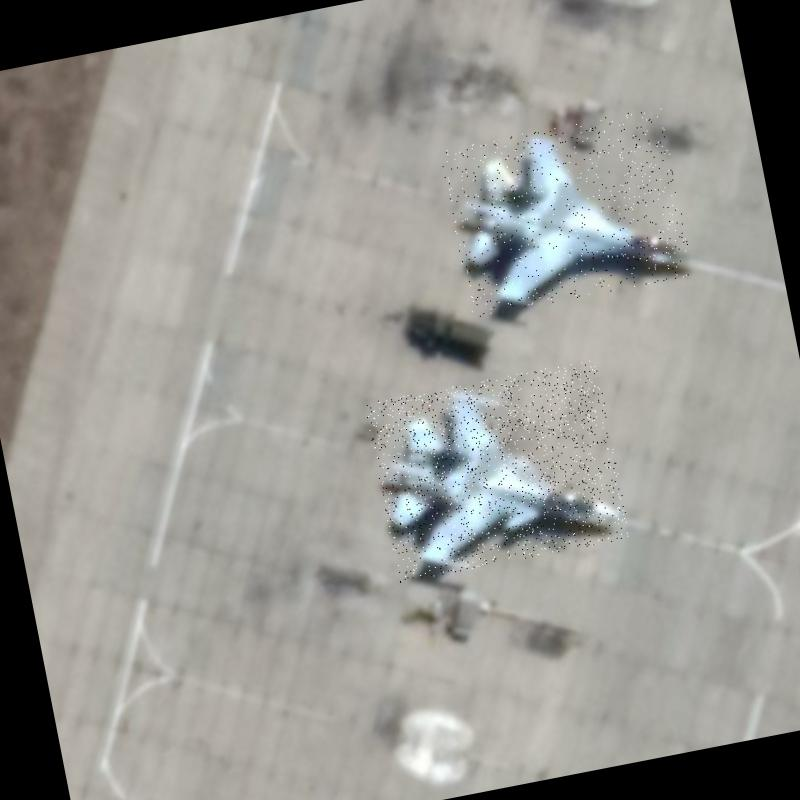A1: (438, 106, 694, 318)
A19: (364, 358, 630, 582)
